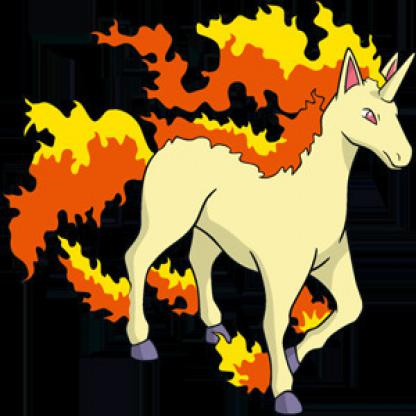Rapidash: (1, 1, 406, 414)
